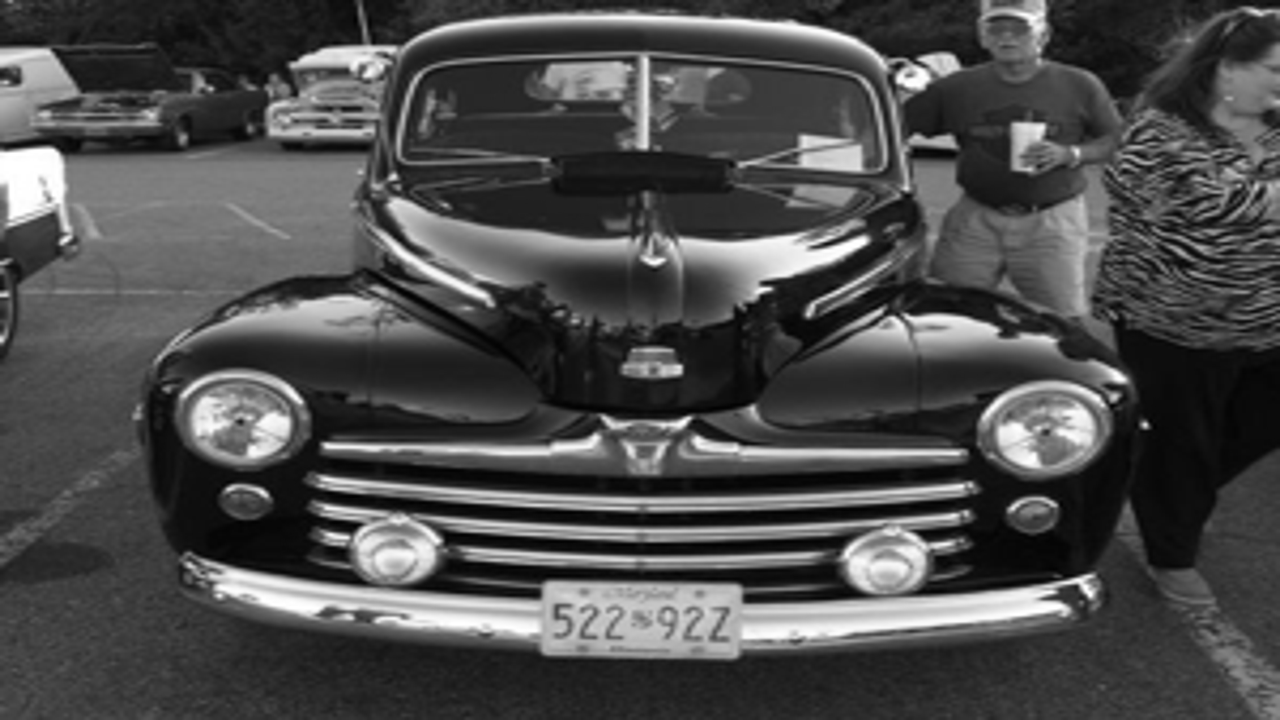license: (534, 571, 747, 666)
